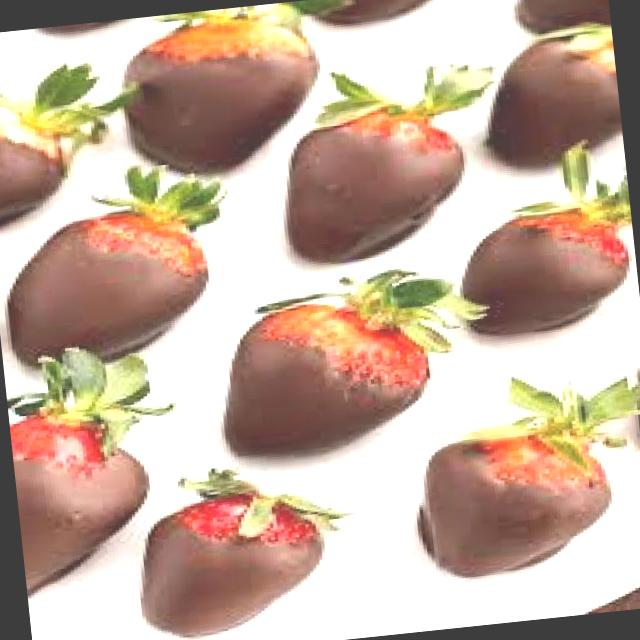Strawberry: (205, 258, 499, 460), (398, 357, 640, 582), (0, 154, 240, 370), (268, 53, 510, 266), (2, 335, 190, 600), (124, 451, 364, 640), (441, 133, 639, 340), (111, 0, 330, 180), (0, 52, 145, 229), (471, 17, 622, 168)
